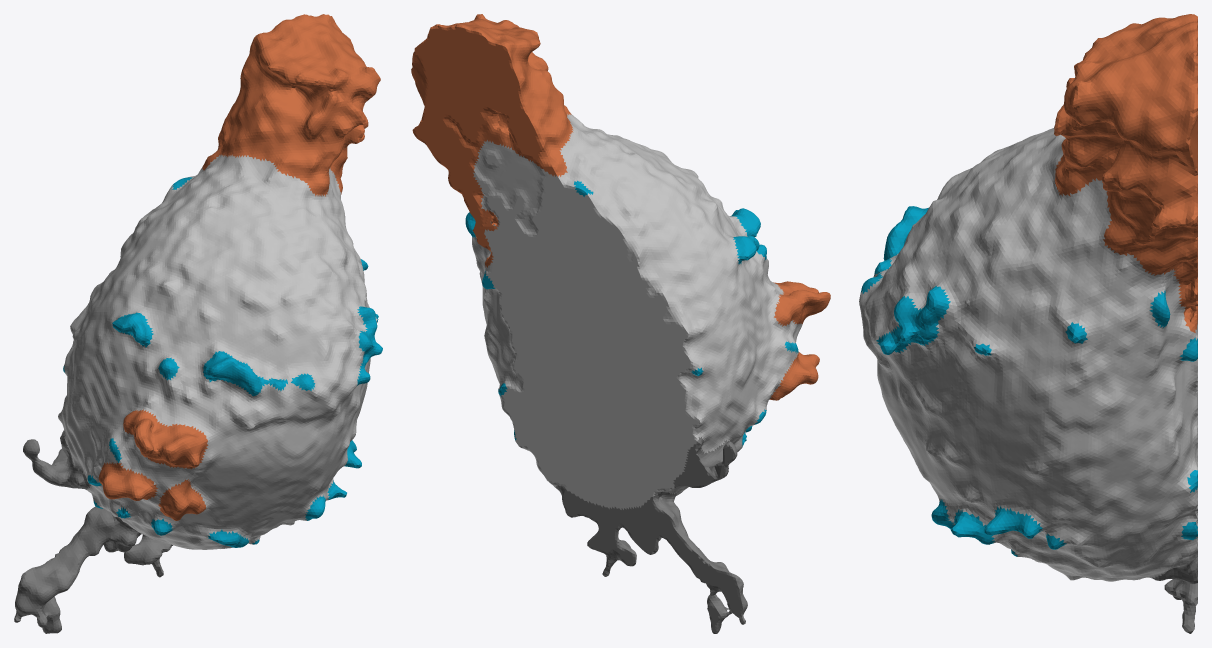
3 views of the same model, side by side, from view 1: azimuth 30°, elevation 25°; view 2: azimuth 150°, elevation 25°; view 3: azimuth 270°, elevation 25° (orthographic). The views are drawn at different scales.
Size of the model in its own units: 110 by 170 by 71.32.
